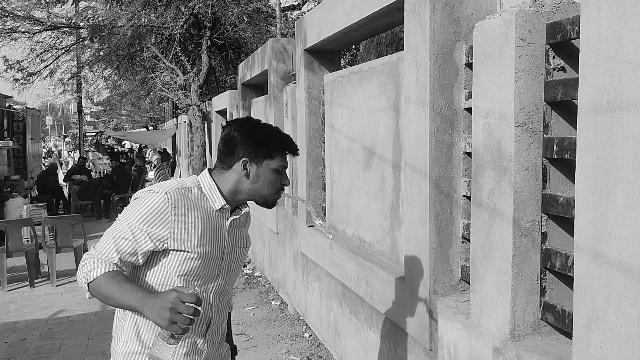spit: (171, 118, 369, 360)
